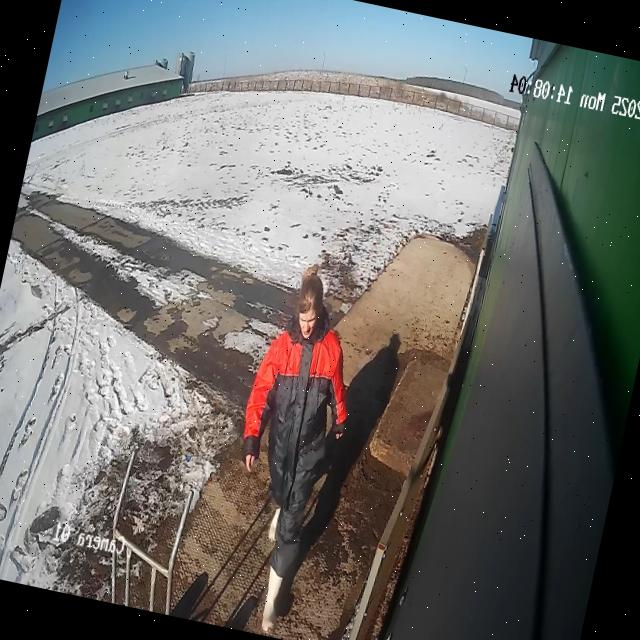Red uniform: (242, 317, 347, 577)
